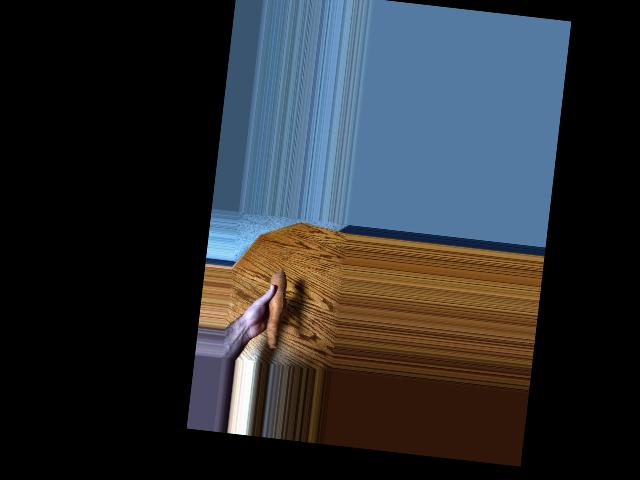sweet_potato: (259, 272, 290, 349)
